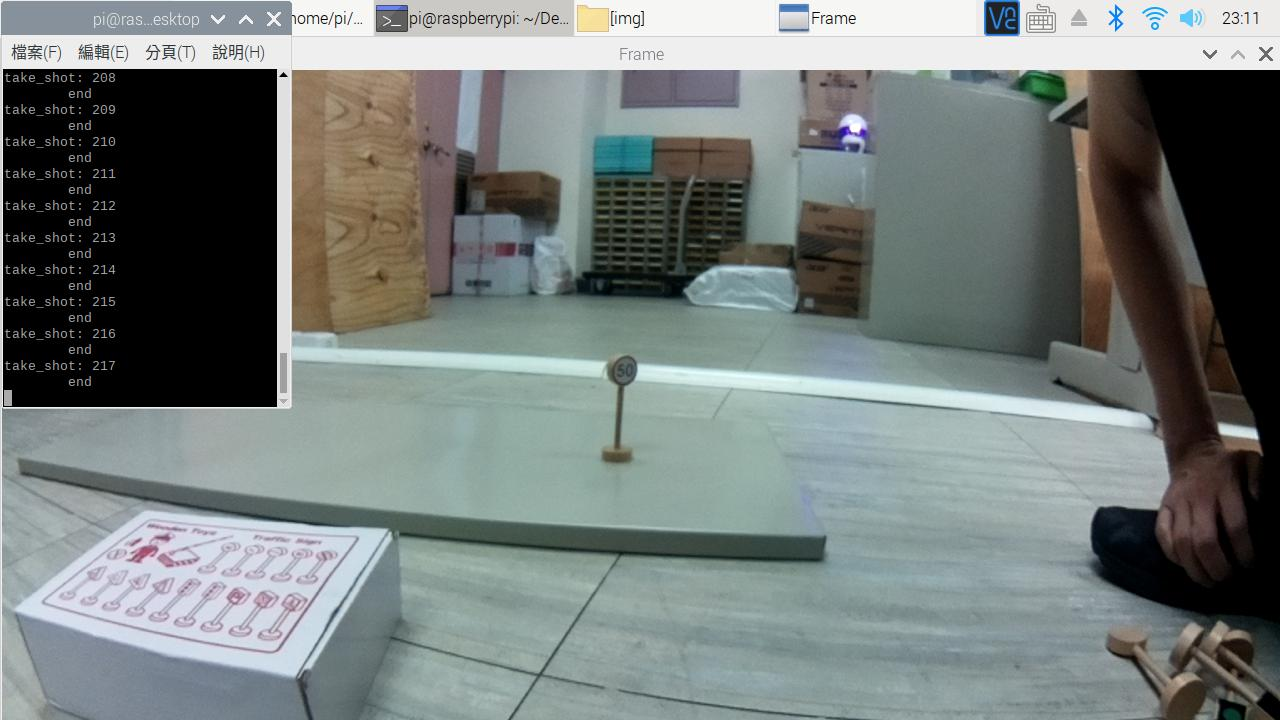Speed50: (594, 350, 652, 392)
